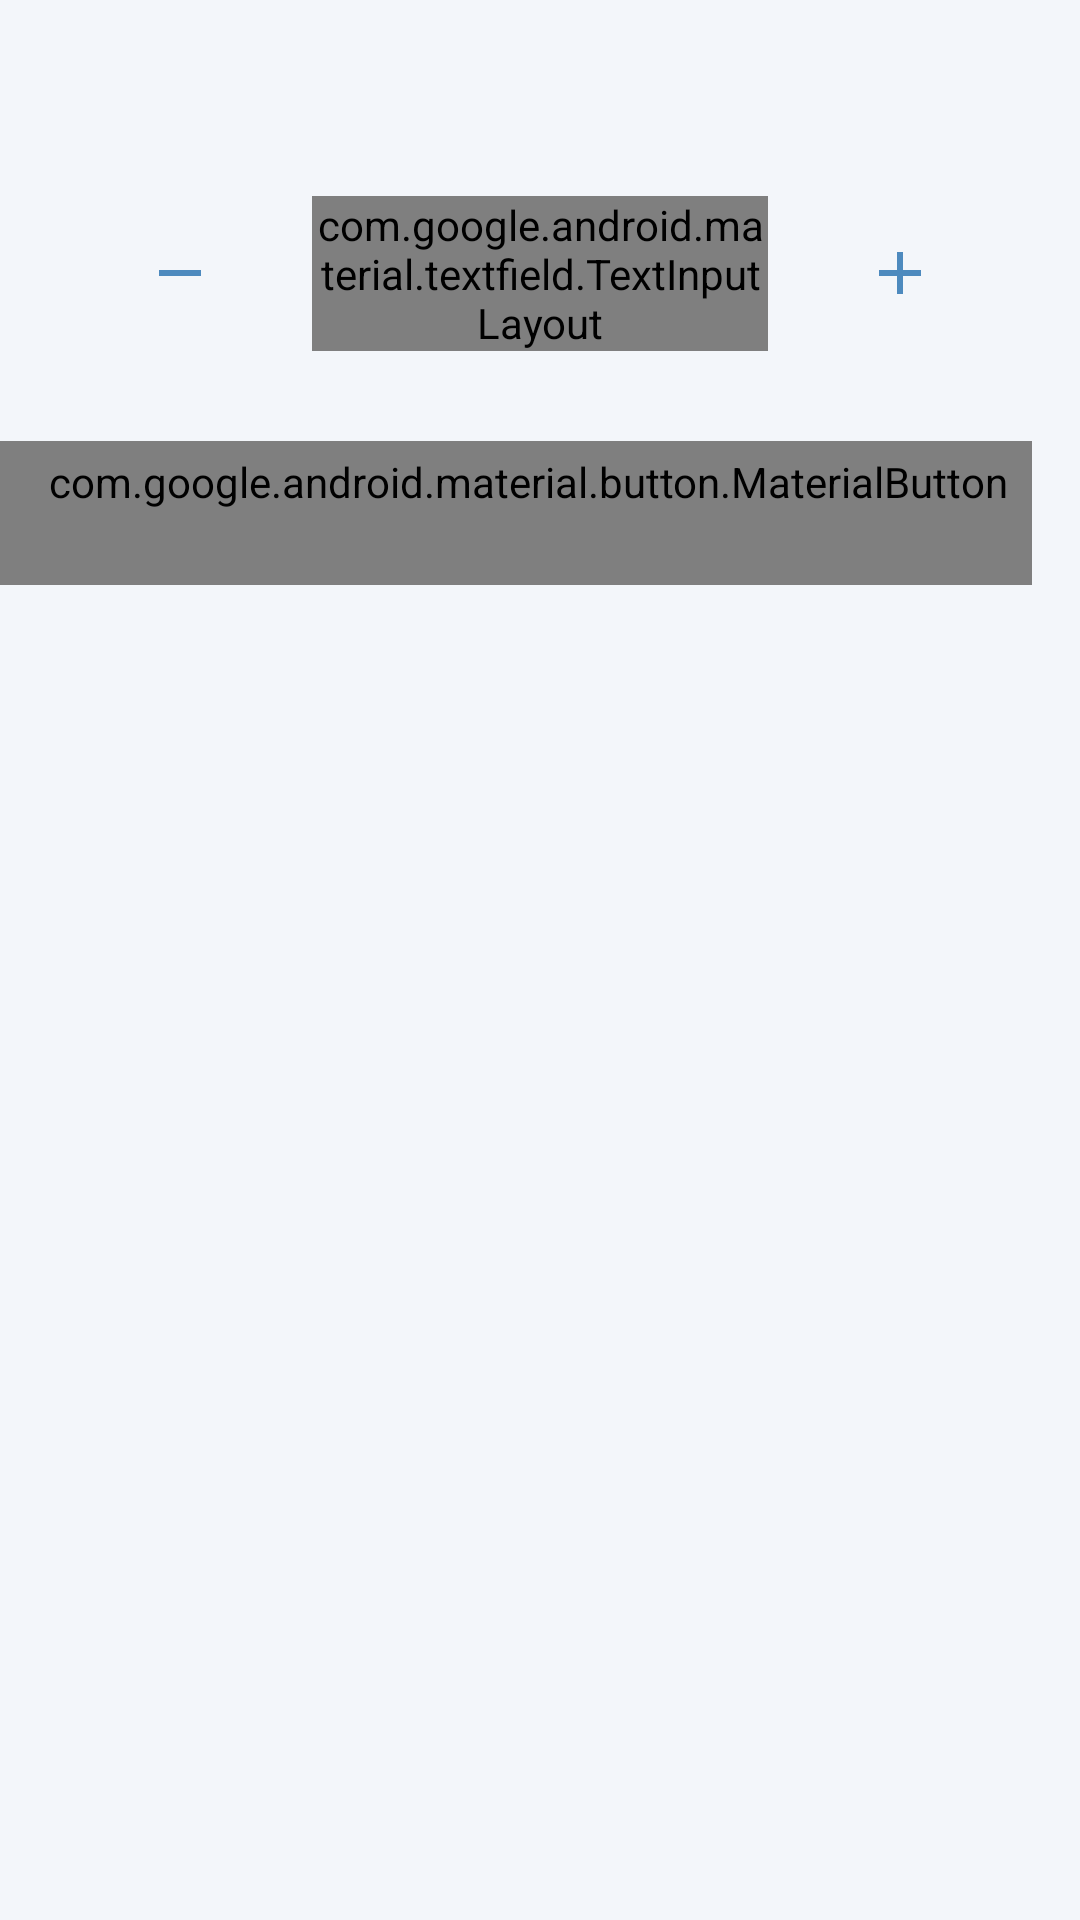

Where icons sit on this 1080 x 1920 app screen, as [left=x1, top=y1, right=x2, bottom=y2]:
plus: [left=879, top=252, right=921, bottom=294]
